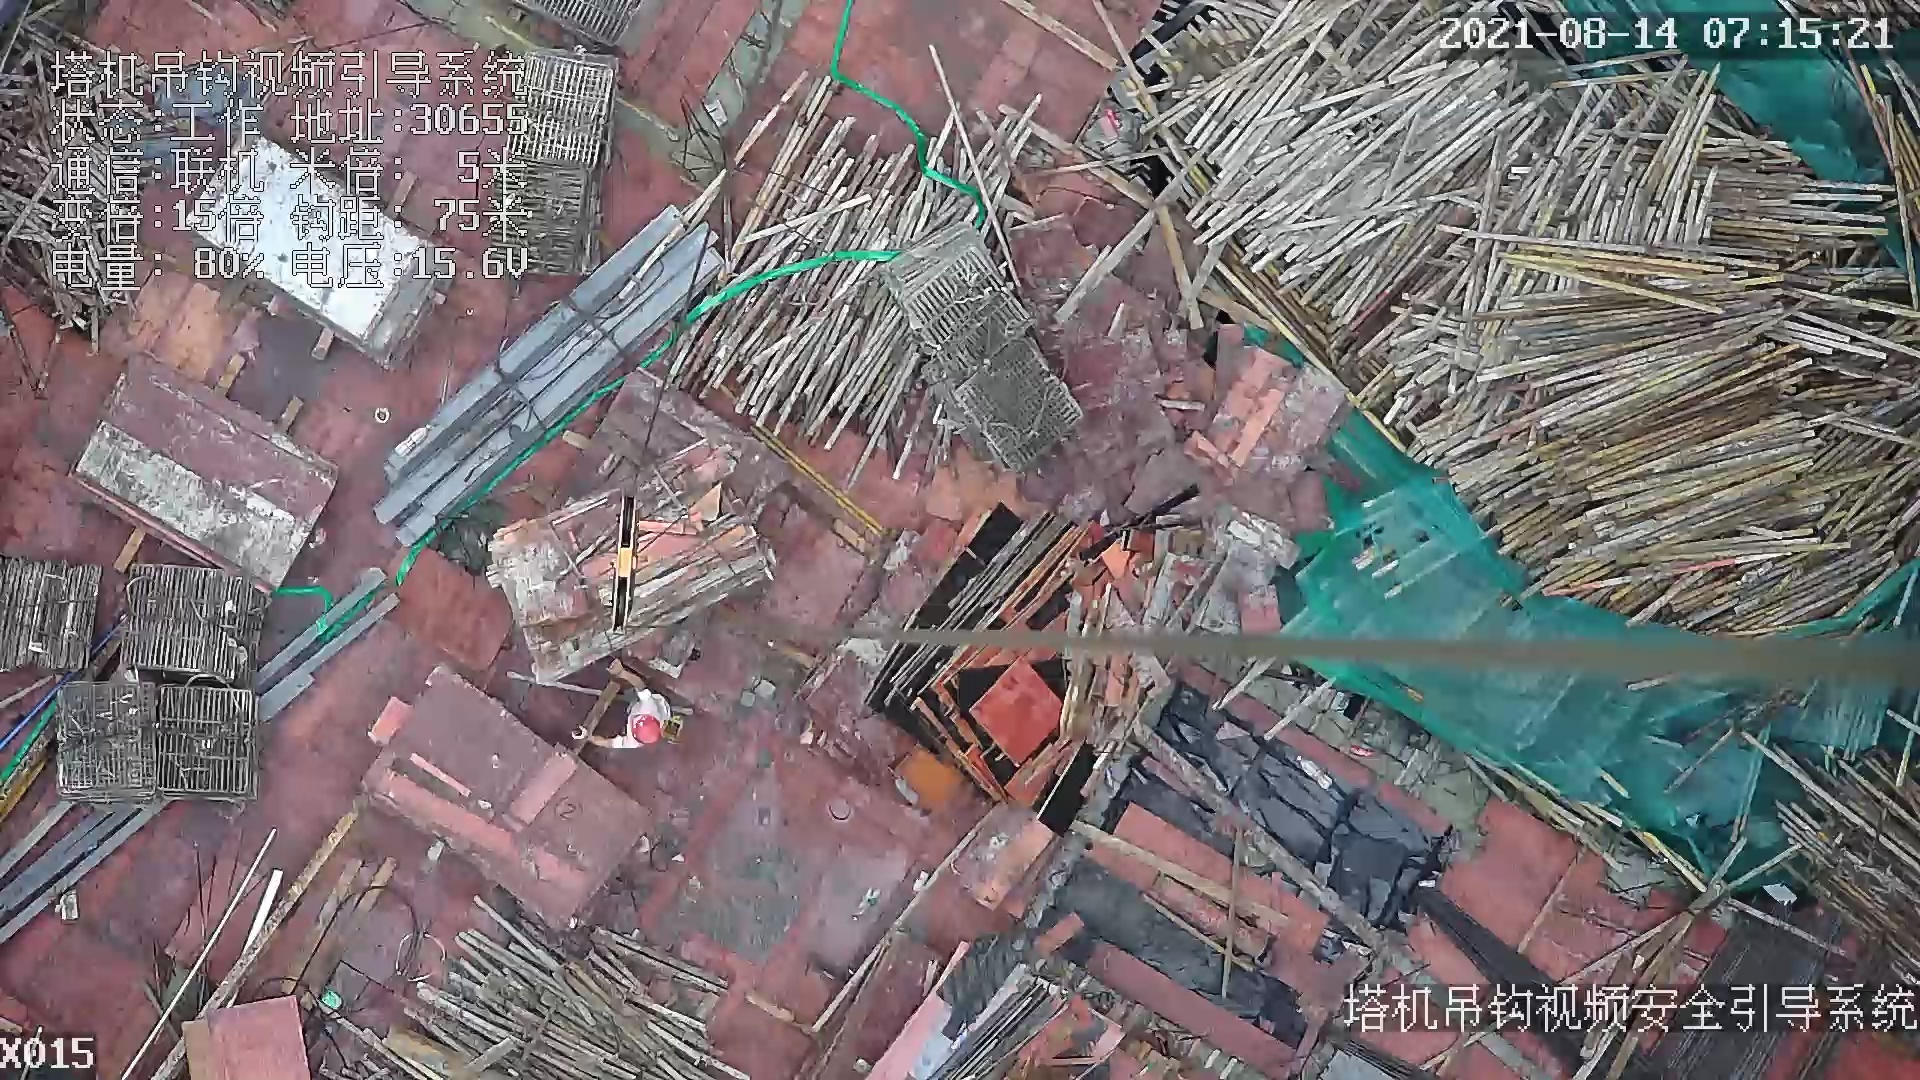helmet: (626, 715, 666, 749)
hook: (603, 491, 649, 639)
person: (568, 663, 679, 751)
